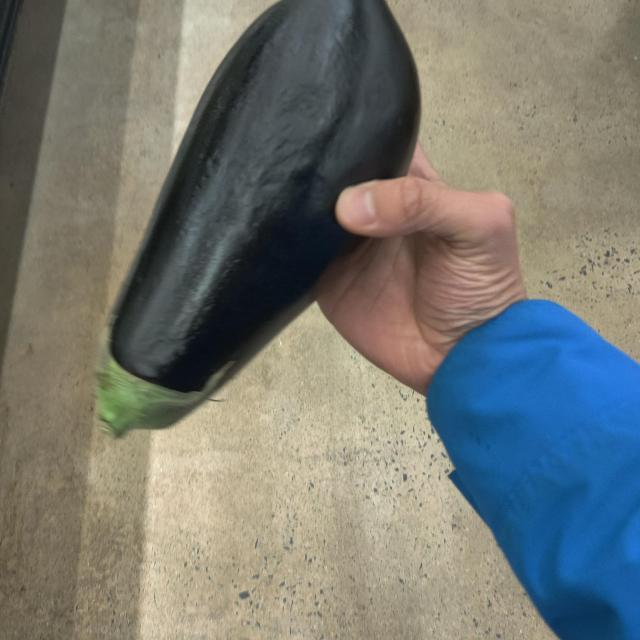Eggplant: (82, 0, 422, 451)
